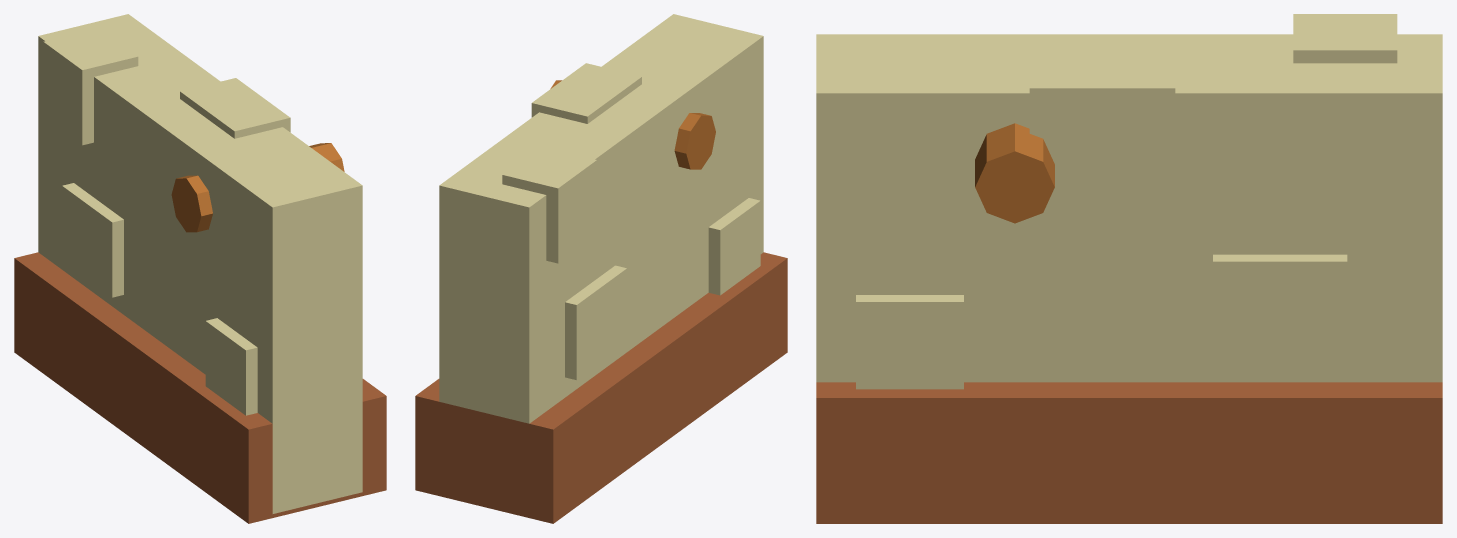
File: fence_001.fbx
3 renders of one model, left to right at view 1: azimuth 30°, elevation 25°; view 2: azimuth 150°, elevation 25°; view 3: azimuth 270°, elevation 25°, orthographic. The views are drawn at different scales.
Parts seen in each view (by area): view 1: fence.001; view 2: fence.001; view 3: fence.001.
Part boxes in pixels (box(x1,y1,x2,y2)): fence.001: box(14, 14, 386, 523); fence.001: box(415, 14, 787, 523); fence.001: box(816, 14, 1442, 523).
Size of the model in its own units: 69.71 by 136 by 180.
